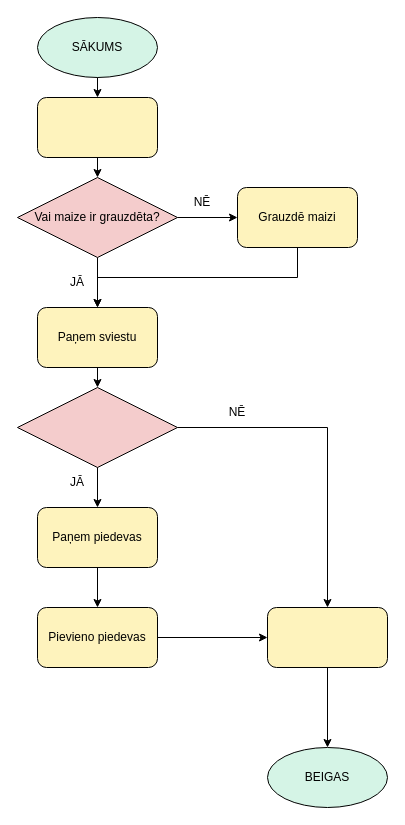
Some shapes in this 405 by 825 pixel diagram are drawn without their labels. Here are the shapes that lost their labels. From the top down, the box of each, then its label:
(36, 96, 158, 158): Paņem maizi
(16, 386, 178, 468): Vai pievienot piedevas?
(266, 606, 388, 668): Saliek sviestmaizi
